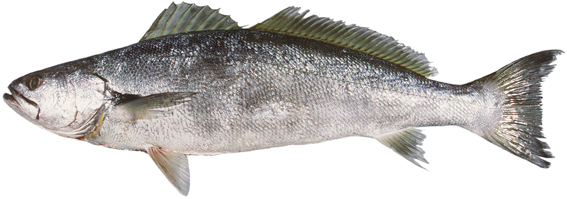fish: (2, 1, 561, 199)
